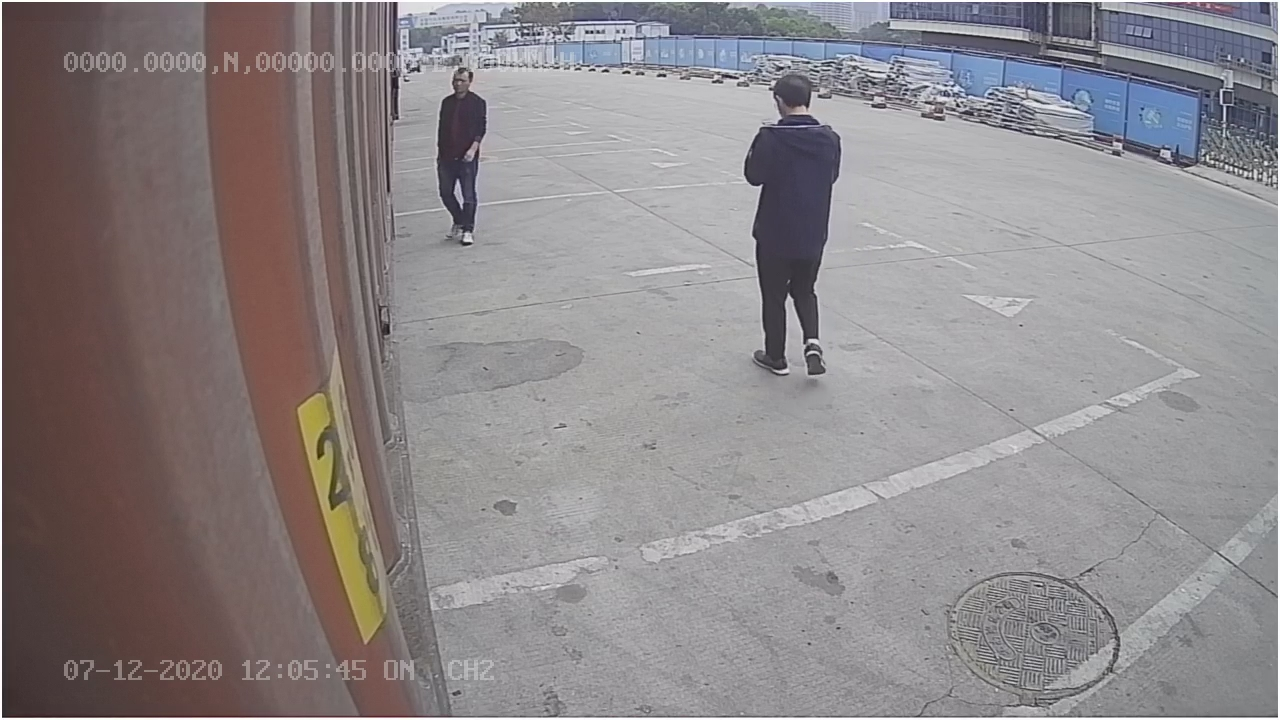person: (740, 71, 843, 377)
